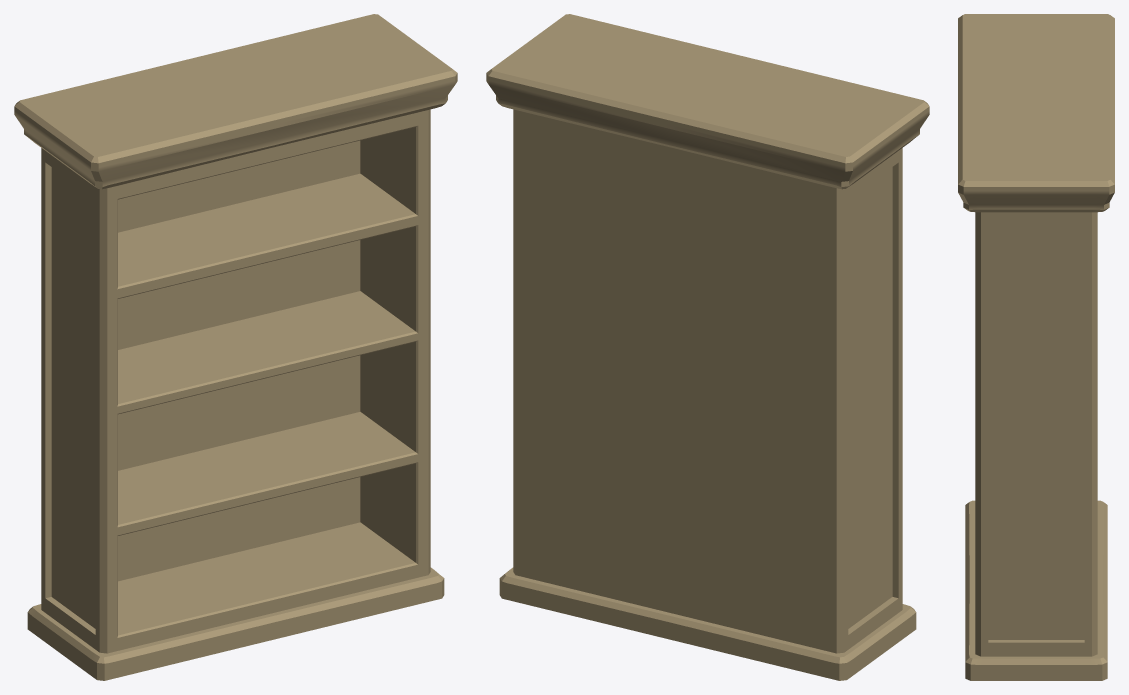
Rendered from bookcase02.fbx.
3 renders of one model, left to right at view 1: azimuth 30°, elevation 25°; view 2: azimuth 150°, elevation 25°; view 3: azimuth 270°, elevation 25°, orthographic. The views are drawn at different scales.
Parts seen in each view (by area): view 1: pCube23; view 2: pCube23; view 3: pCube23.
Boxes of the visible parts, x1,y1,x2,y2 form: pCube23: (14,14,457,680); pCube23: (486,14,929,680); pCube23: (958,14,1114,680).
Size of the model in its own units: 7.84 by 10.77 by 3.04.
